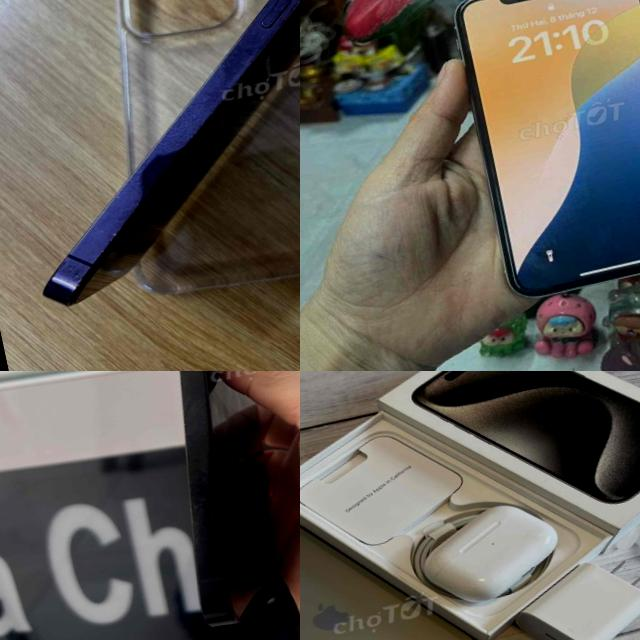gen_12_13: (300, 481, 501, 640)
gen_14: (0, 0, 300, 319), (110, 371, 300, 638)
gen_x_xs: (445, 0, 640, 307)
scratch: (168, 454, 257, 562), (101, 214, 146, 257)
